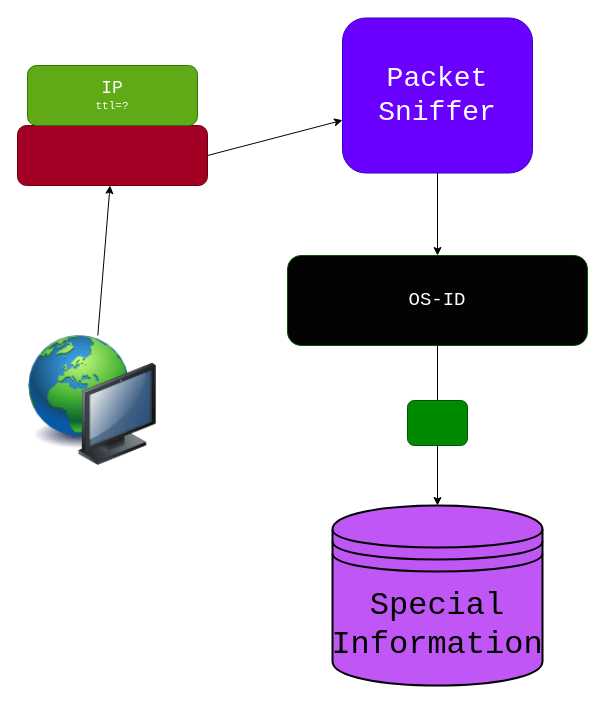
The diagram is 605 pixels wide and 703 high, and some of its shapes have lost their labels. The centre of each missing label's shape, as x and y in pixels:
"Ether" belongs at pixel 112 155.
"OS" belongs at pixel 437 423.
